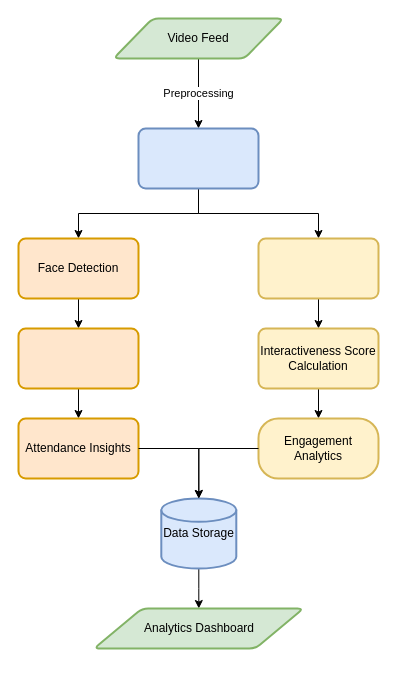
Image size: 396x674. Some labels were removed from this diagram. The box of each missing label's shape, as (x1, y1, x2, y2) in pixels:
Face Recognition and Attendance: (17, 327, 139, 389)
Head Pose Estimation: (257, 237, 379, 299)
Preprocessed Frames: (137, 127, 259, 189)
